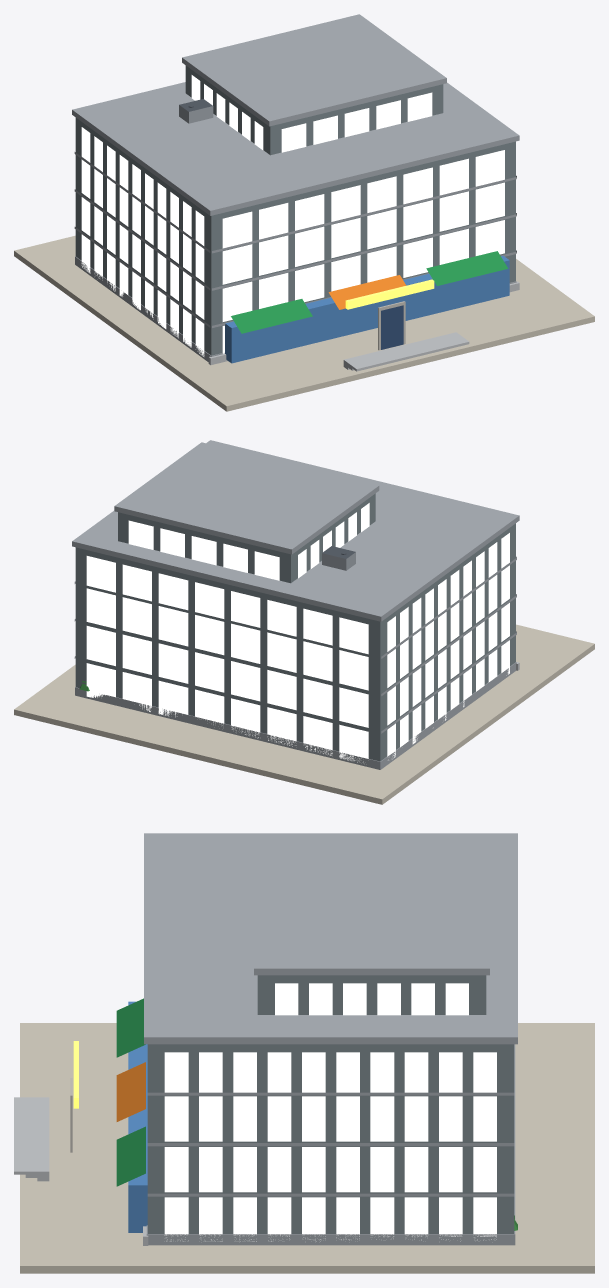
3 renders of one model, top to bottom at view 1: azimuth 30°, elevation 25°; view 2: azimuth 150°, elevation 25°; view 3: azimuth 270°, elevation 25°, orthographic. The views are drawn at different scales.
Visible parts, largest first — view 1: b17_x2; view 2: b17_x2; view 3: b17_x2.
Boxes of the visible parts, x1,y1,x2,y2 form: b17_x2: (14,14,594,411); b17_x2: (14,440,594,804); b17_x2: (14,833,594,1273).
Size of the model in its own units: 1.96 by 0.994 by 1.98.
